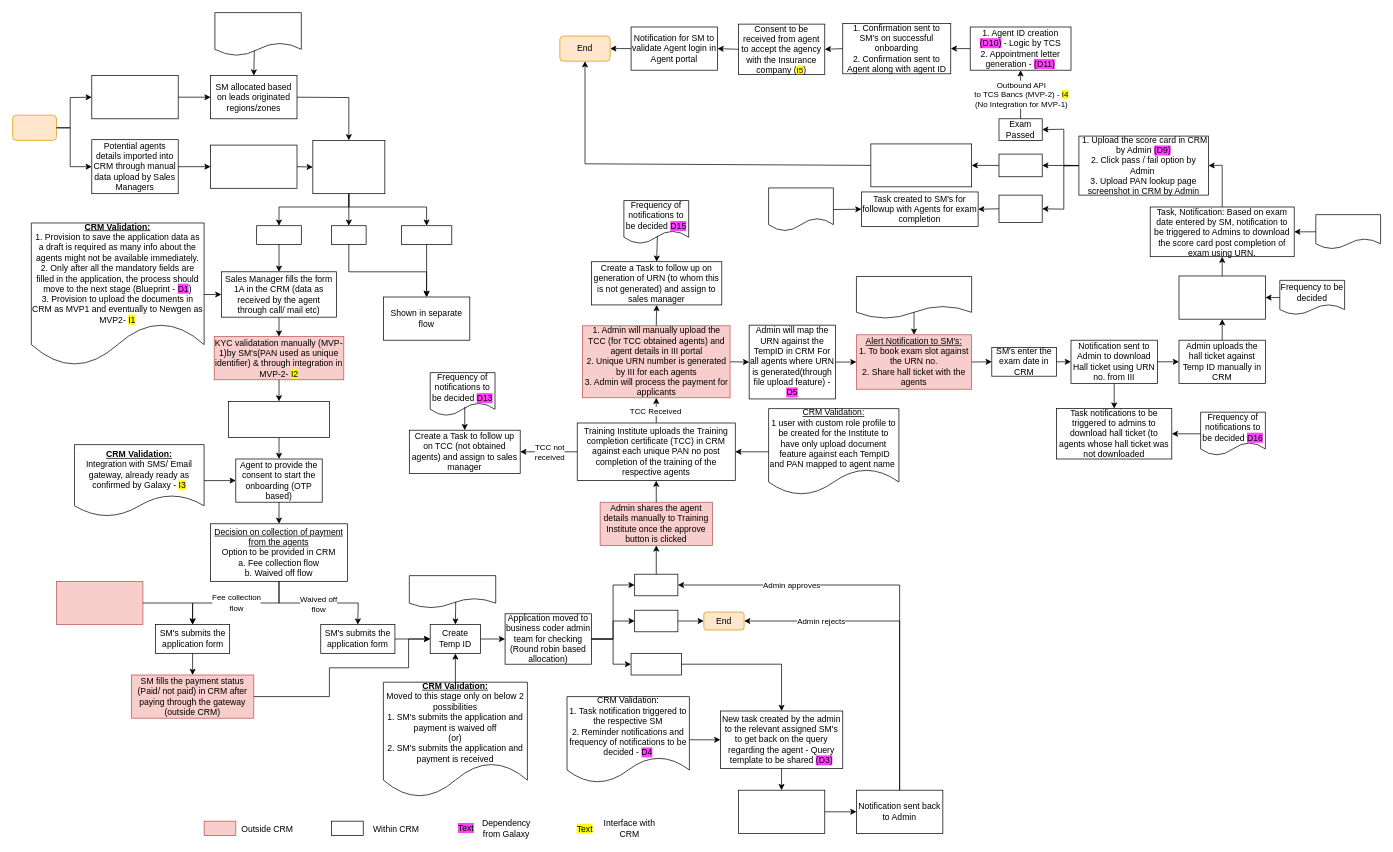
Some shapes in this 1393 by 852 pixel diagram are drawn without their labels. The box of each missing label's shape, as (x1, y1, x2, y2) in pixels:
All the agents uploaded by SM is mapped to the respective individual: (210, 144, 297, 188)
Approve: (634, 573, 678, 596)
Composite: (401, 225, 452, 244)
Exam Failed: (998, 153, 1042, 177)
Exam not attempted: (998, 194, 1042, 222)
Frequency of notifications to be decided D14: (768, 187, 833, 231)
Frequency to be decided- D8: (1315, 214, 1381, 249)
IC38: (256, 225, 301, 244)
Leads through webforms from agent portal - I6: (91, 75, 178, 119)
Notification to SM to process the exam fees and continue the cycle/loop: (870, 143, 972, 187)
Pennydrop validation - MVP-2 ( I7 ); exact details to be defined: (56, 581, 143, 625)
POSP: (331, 225, 366, 244)
Raise a query: (630, 653, 681, 675)
Region, logic and user profiles of SM's to be shared - D17: (214, 12, 301, 56)
Reject: (634, 609, 678, 632)
Reminder notifications (D6) to be triggered (Frequency to be decided): (856, 276, 972, 319)
SM identifies and selects the type of Agent assigned (CRM Dropdown value): (312, 140, 385, 194)
SM reviews, acts and resolves the task: (738, 789, 825, 833)
SM's uploads the relevant KYC/ Application documents: (228, 401, 329, 437)
Start: (12, 114, 57, 140)
The format of this ID to be defined - D2: (409, 575, 496, 608)
Trigger notifications to SM's and Agents on the details of exam schedule - D7: (1178, 275, 1265, 319)
